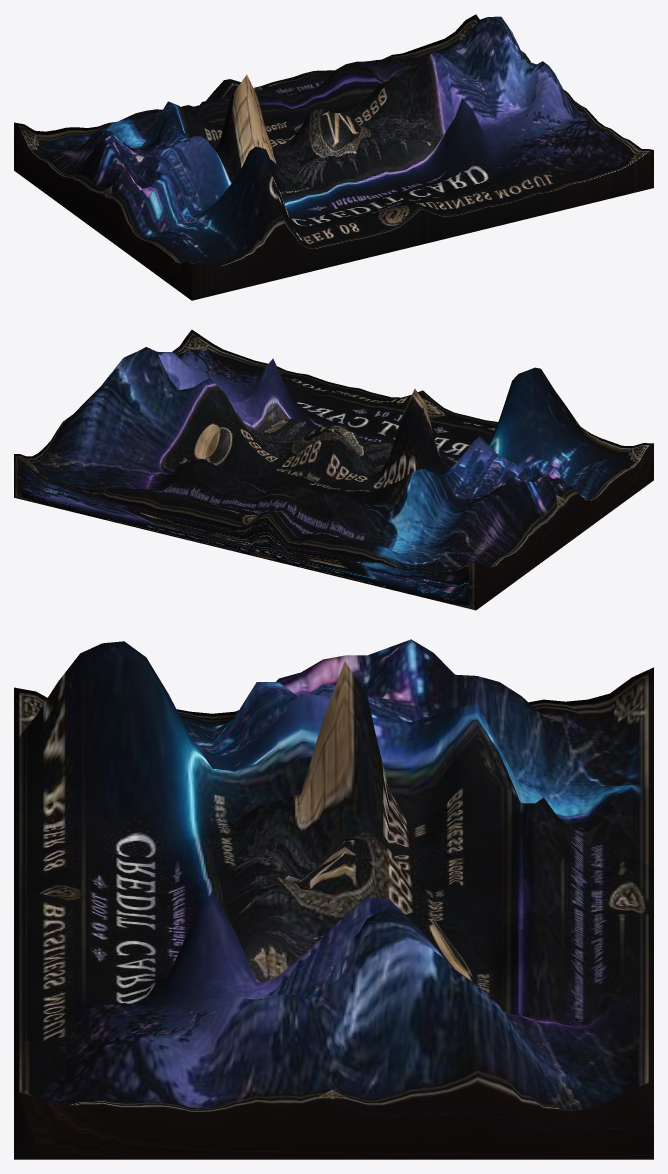
Rendered from CAREER_08_Tool_04_Card.glb.
3 views of the same model, one above another, from view 1: azimuth 30°, elevation 25°; view 2: azimuth 150°, elevation 25°; view 3: azimuth 270°, elevation 25° (orthographic). The views are drawn at different scales.
Visible parts, largest first — view 1: CAREER_08_Tool_04_Card; view 2: CAREER_08_Tool_04_Card; view 3: CAREER_08_Tool_04_Card.
Part boxes in pixels (left/top/right/bottom): CAREER_08_Tool_04_Card: left=14, top=14, right=653, bottom=300; CAREER_08_Tool_04_Card: left=14, top=330, right=653, bottom=610; CAREER_08_Tool_04_Card: left=14, top=639, right=653, bottom=1159.
Size of the model in its own units: 2 by 0.51 by 1.33.
1 material, 1 textured.
